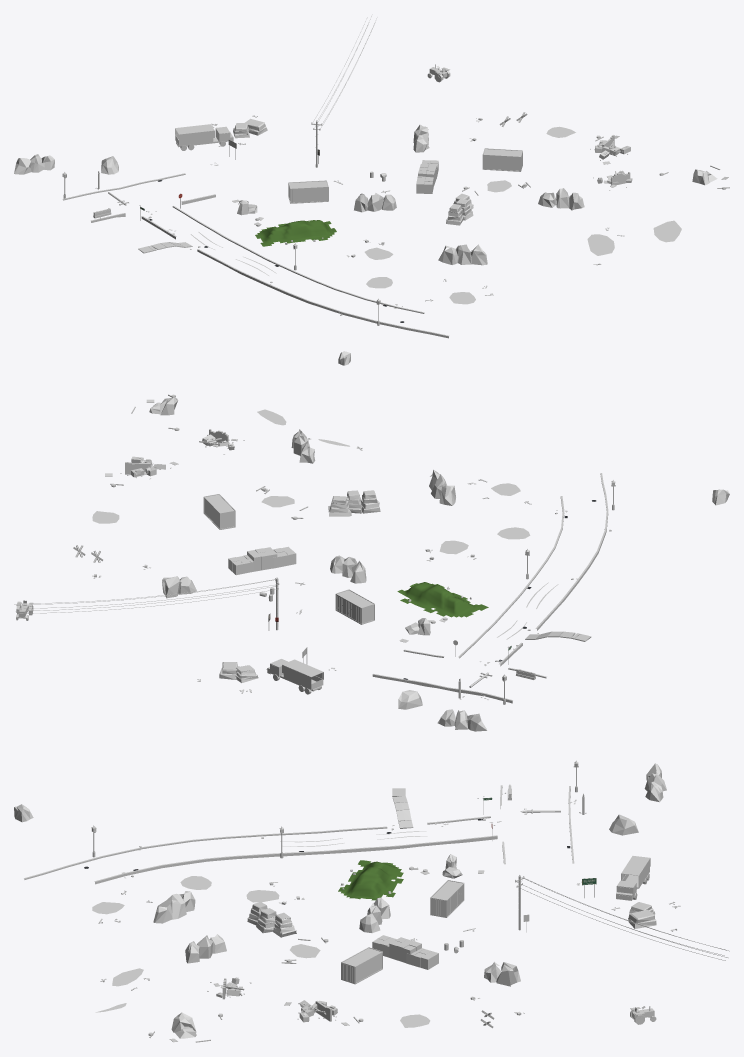
The model's file is outdoor_21.glb.
3 views of the same model, one above another, from view 1: azimuth 30°, elevation 25°; view 2: azimuth 150°, elevation 25°; view 3: azimuth 270°, elevation 25° (orthographic). The views are drawn at different scales.
Parts seen in each view (by area): view 1: gas_station_town; view 2: gas_station_town; view 3: gas_station_town.
Boxes of the visible parts, x1,y1,x2,y2 form: gas_station_town: (14, 14, 729, 365); gas_station_town: (14, 394, 729, 731); gas_station_town: (14, 760, 729, 1042).
Size of the model in its own units: 93.61 by 9.36 by 96.82.
4 materials, 3 textured.
